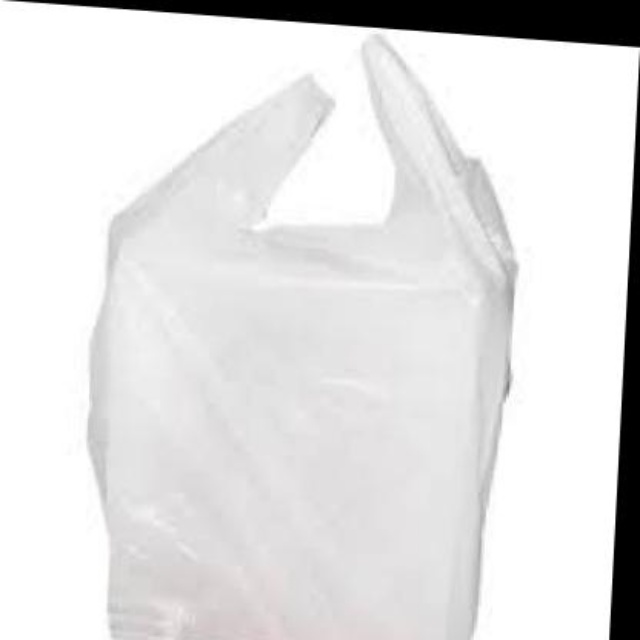trash: (89, 35, 515, 638)
